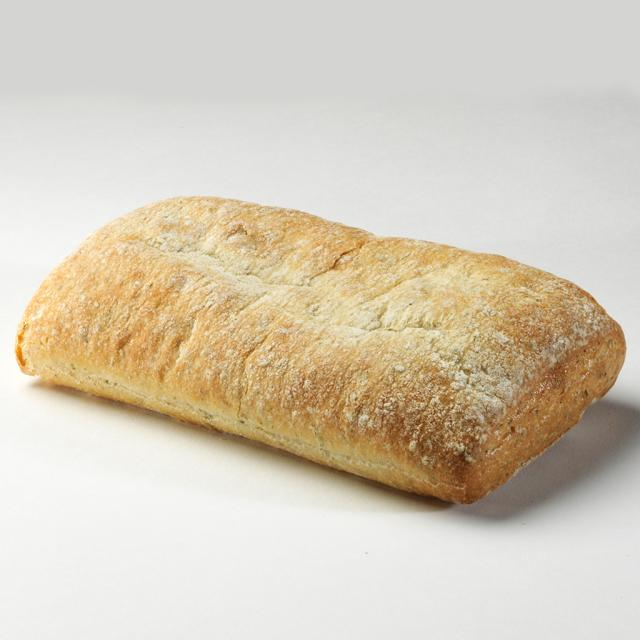Ciabatta: (15, 197, 625, 502)
